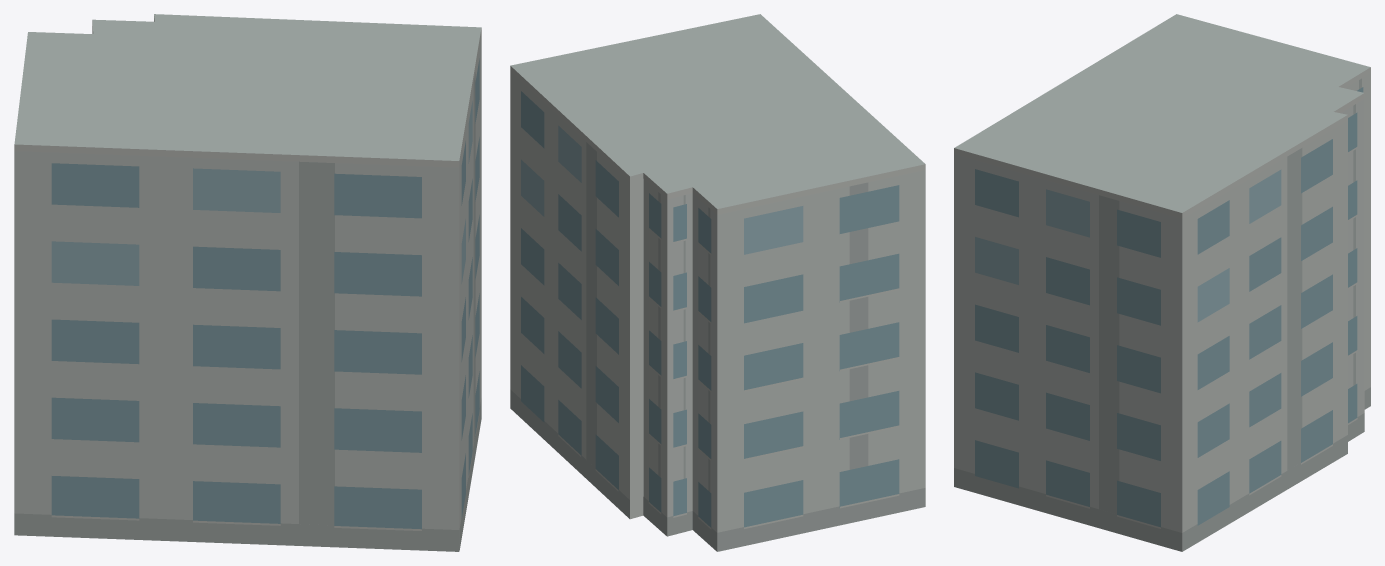
Rendered from survey-upis-32940890.glb.
3 renders of one model, left to right at view 1: azimuth 30°, elevation 25°; view 2: azimuth 150°, elevation 25°; view 3: azimuth 270°, elevation 25°, orthographic. The views are drawn at different scales.
Parts seen in each view (by area): view 1: survey-upis-32940890.tmp; view 2: survey-upis-32940890.tmp; view 3: survey-upis-32940890.tmp.
Part boxes in pixels (x1,y1,x2,y2): survey-upis-32940890.tmp: (14,14,481,551); survey-upis-32940890.tmp: (510,14,925,551); survey-upis-32940890.tmp: (954,14,1370,551).
Bounding box in the file's own units: 17.96 × 14.25 × 15.89.
